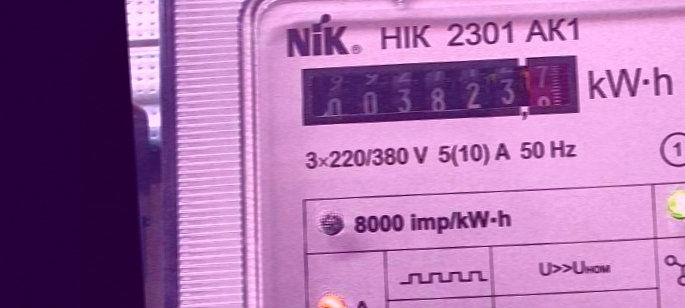0: (357, 88, 379, 116), (323, 94, 343, 118)
2: (462, 79, 483, 112)
3: (393, 85, 413, 115), (497, 76, 516, 107)
7: (533, 64, 551, 93)
8: (427, 85, 446, 114)
9: (324, 73, 343, 93)
screen: (291, 47, 583, 136)
